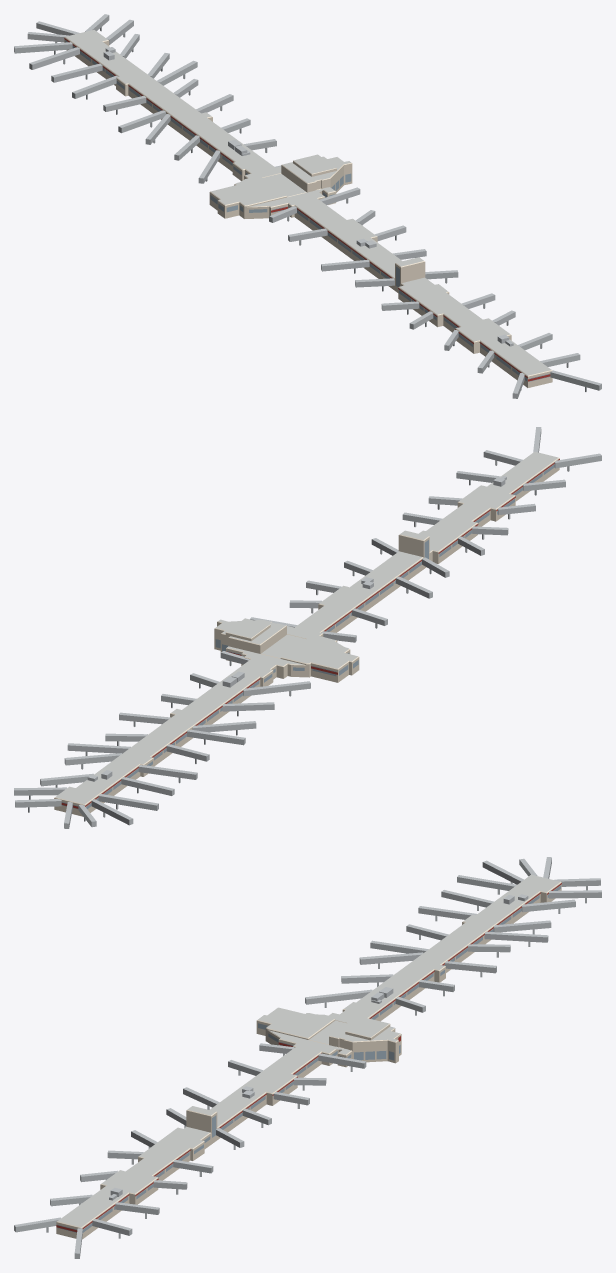
The model's file is atl-hartsfield-jackson-concourse-d.glb.
3 views of the same model, one above another, from view 1: azimuth 30°, elevation 25°; view 2: azimuth 150°, elevation 25°; view 3: azimuth 330°, elevation 25° (orthographic). The views are drawn at different scales.
Visible parts, largest first — view 1: Hartsfield-Jackson Concourse D; view 2: Hartsfield-Jackson Concourse D; view 3: Hartsfield-Jackson Concourse D.
Part boxes in pixels (left/top/right/bottom): Hartsfield-Jackson Concourse D: left=14, top=14, right=601, bottom=398; Hartsfield-Jackson Concourse D: left=14, top=427, right=601, bottom=828; Hartsfield-Jackson Concourse D: left=14, top=857, right=601, bottom=1258.
Size of the model in its own units: 105 by 21.4 by 706.
